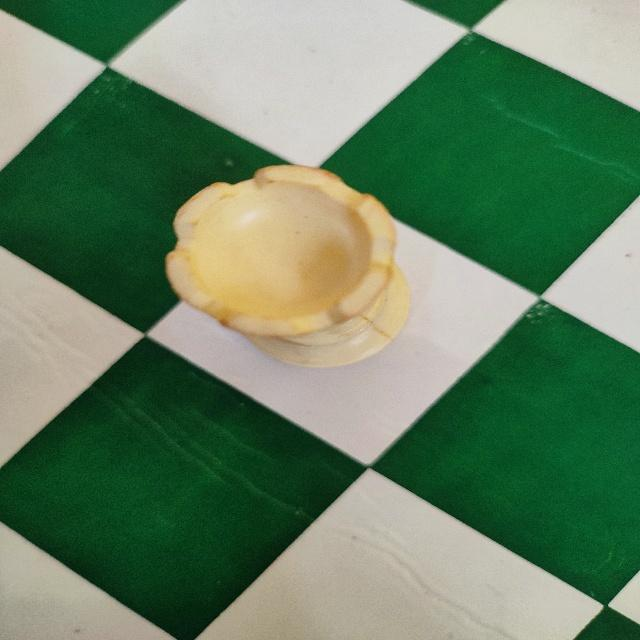Rook: (154, 158, 421, 374)
